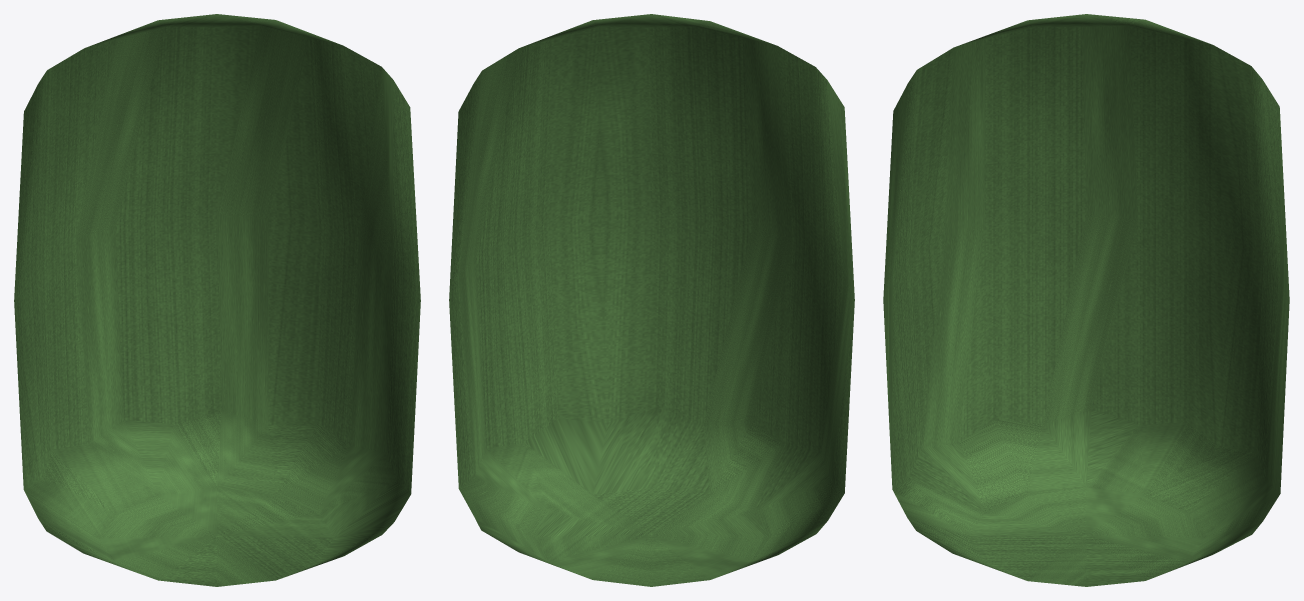
File: prop_barrel_low.glb
3 views of the same model, side by side, from view 1: azimuth 30°, elevation 25°; view 2: azimuth 150°, elevation 25°; view 3: azimuth 270°, elevation 25° (orthographic).
Bounding box in the file's own units: 0.5364 × 0.6924 × 0.5364.
Materials: 1 (1 with a texture image).
